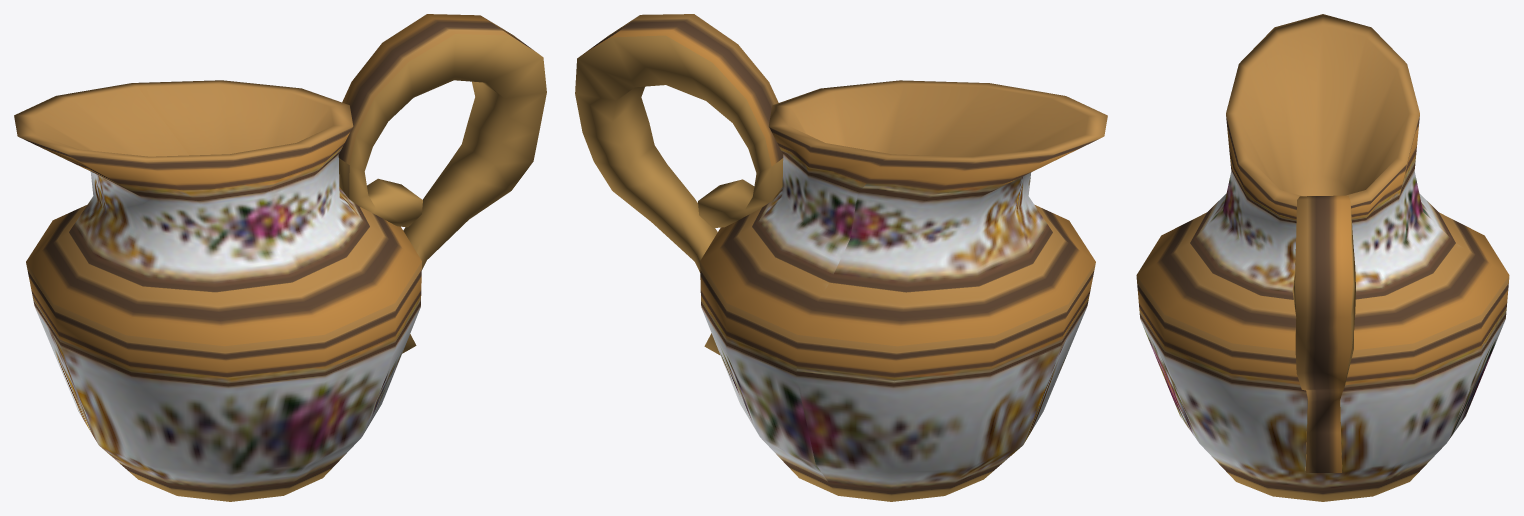
The model's file is Cream_Pitcher.fbx.
The picture shows the model from 3 angles, left to right: view 1: azimuth 30°, elevation 25°; view 2: azimuth 150°, elevation 25°; view 3: azimuth 270°, elevation 25°; orthographic projection. The views are drawn at different scales.
Parts seen in each view (by area): view 1: Cream_Pitcher_LOD0; view 2: Cream_Pitcher_LOD0; view 3: Cream_Pitcher_LOD0.
Boxes of the visible parts, x1,y1,x2,y2 form: Cream_Pitcher_LOD0: (14,14,546,501); Cream_Pitcher_LOD0: (575,14,1107,501); Cream_Pitcher_LOD0: (1136,14,1509,501).
Size of what is drawn, in the model's own units: 39.67 by 28.07 by 26.46.
